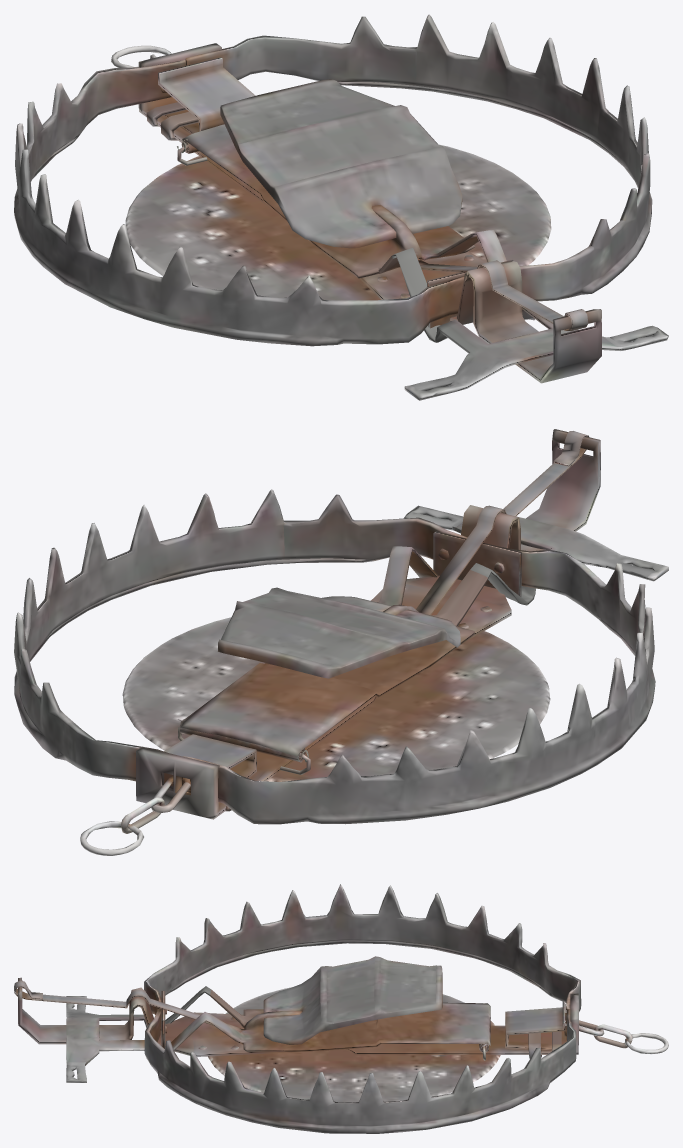
Rendered from SK_PalTrap_0276bc.glb.
3 views of the same model, one above another, from view 1: azimuth 30°, elevation 25°; view 2: azimuth 150°, elevation 25°; view 3: azimuth 270°, elevation 25° (orthographic). The views are drawn at different scales.
Size of the model in its own units: 3.3 by 0.5655 by 4.85.
1 material, 1 textured.
